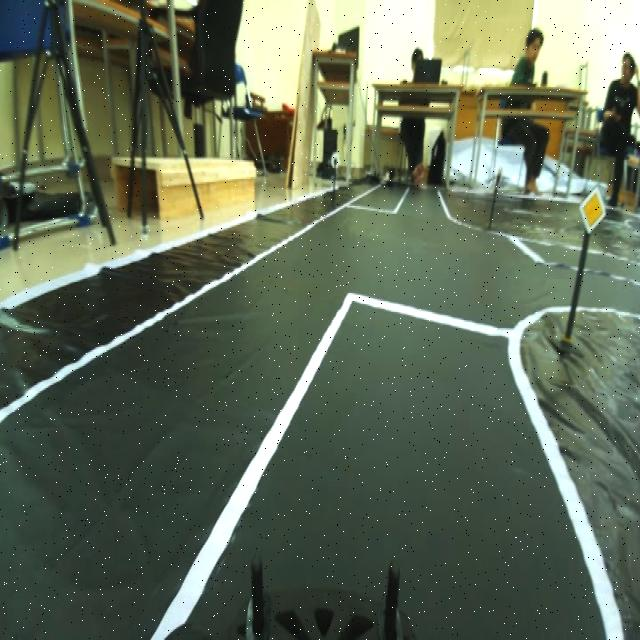priority: (573, 171, 611, 244)
